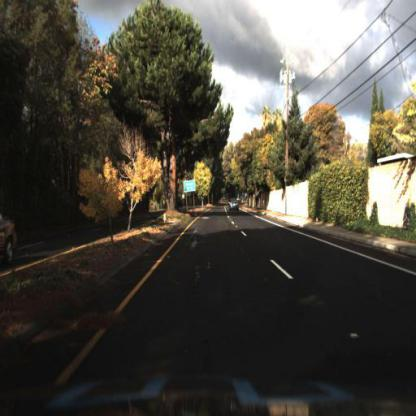car: (1, 205, 19, 270), (230, 201, 240, 213)
pedestrian: (256, 194, 261, 212)
